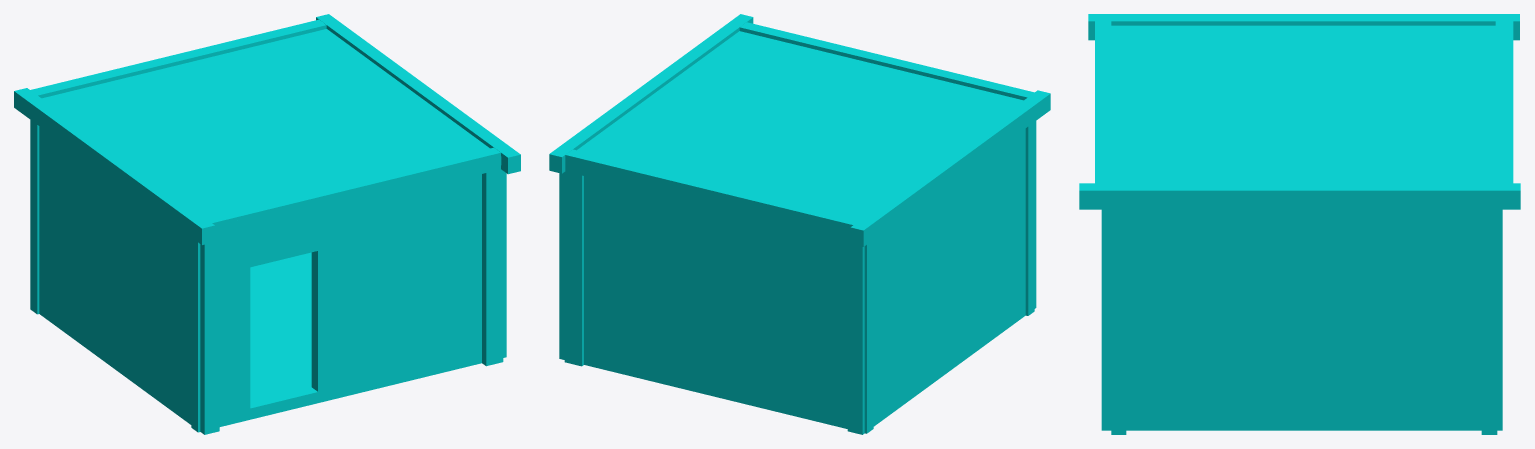
The model's file is SM_Bld_Building_04_Collision.fbx.
The picture shows the model from 3 angles, left to right: view 1: azimuth 30°, elevation 25°; view 2: azimuth 150°, elevation 25°; view 3: azimuth 270°, elevation 25°; orthographic projection. The views are drawn at different scales.
Parts seen in each view (by area): view 1: SM_Bld_Building_04_Collision; view 2: SM_Bld_Building_04_Collision; view 3: SM_Bld_Building_04_Collision.
Part boxes in pixels (x1=…): SM_Bld_Building_04_Collision: x1=14, y1=14, x2=520, y2=434; SM_Bld_Building_04_Collision: x1=549, y1=14, x2=1050, y2=434; SM_Bld_Building_04_Collision: x1=1079, y1=14, x2=1520, y2=434.
Bounding box in the file's own units: 458 × 296 × 484.
